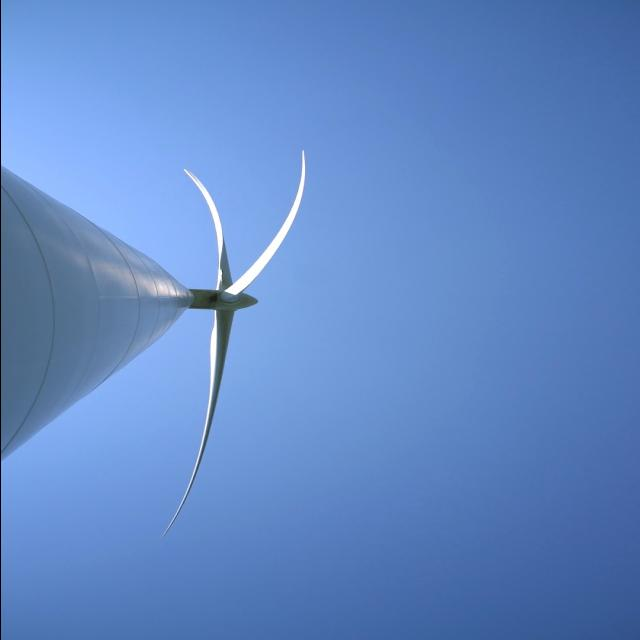blade 1: (176, 120, 248, 280)
blade 2: (255, 148, 340, 285)
blade 3: (149, 332, 251, 518)
